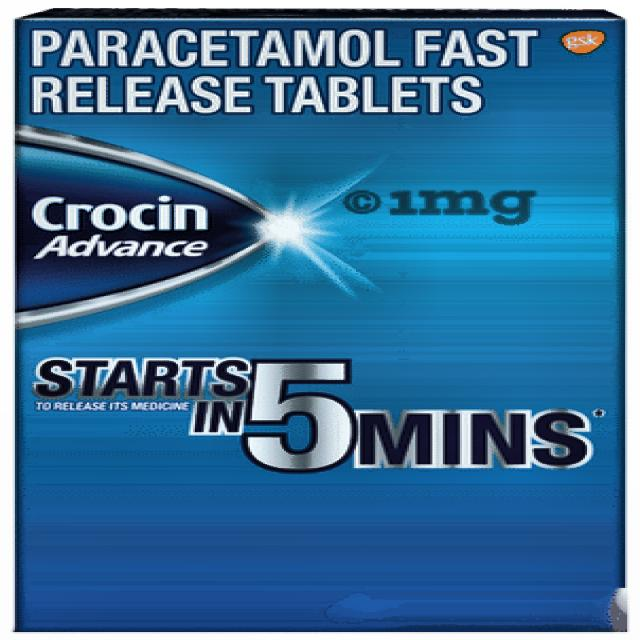Crocin: (14, 137, 298, 315)
